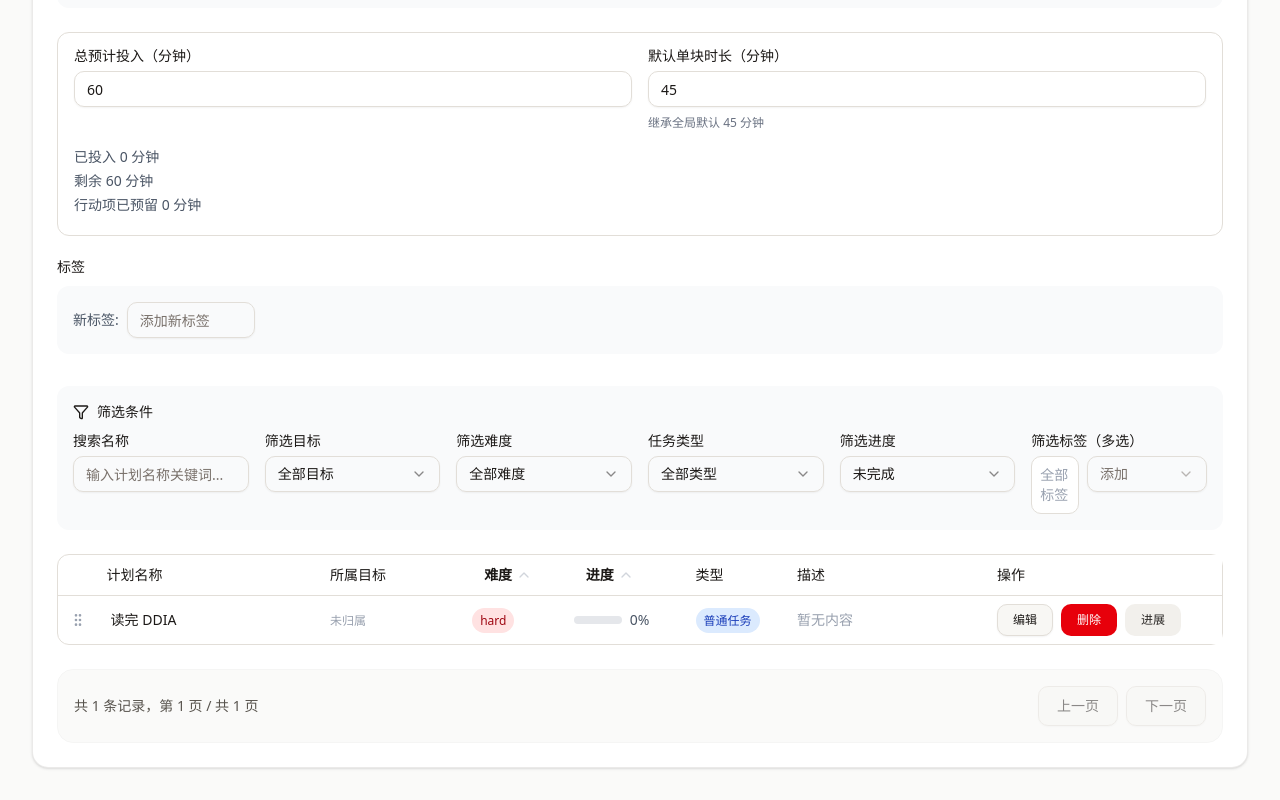
Test case: PlansPage › loads editable budget values and locks recurrence after execution history
(page scrolled)
Click the button "编辑": (1025, 620) top-left (997, 604), bottom-right (1053, 636)
(page scrolled)
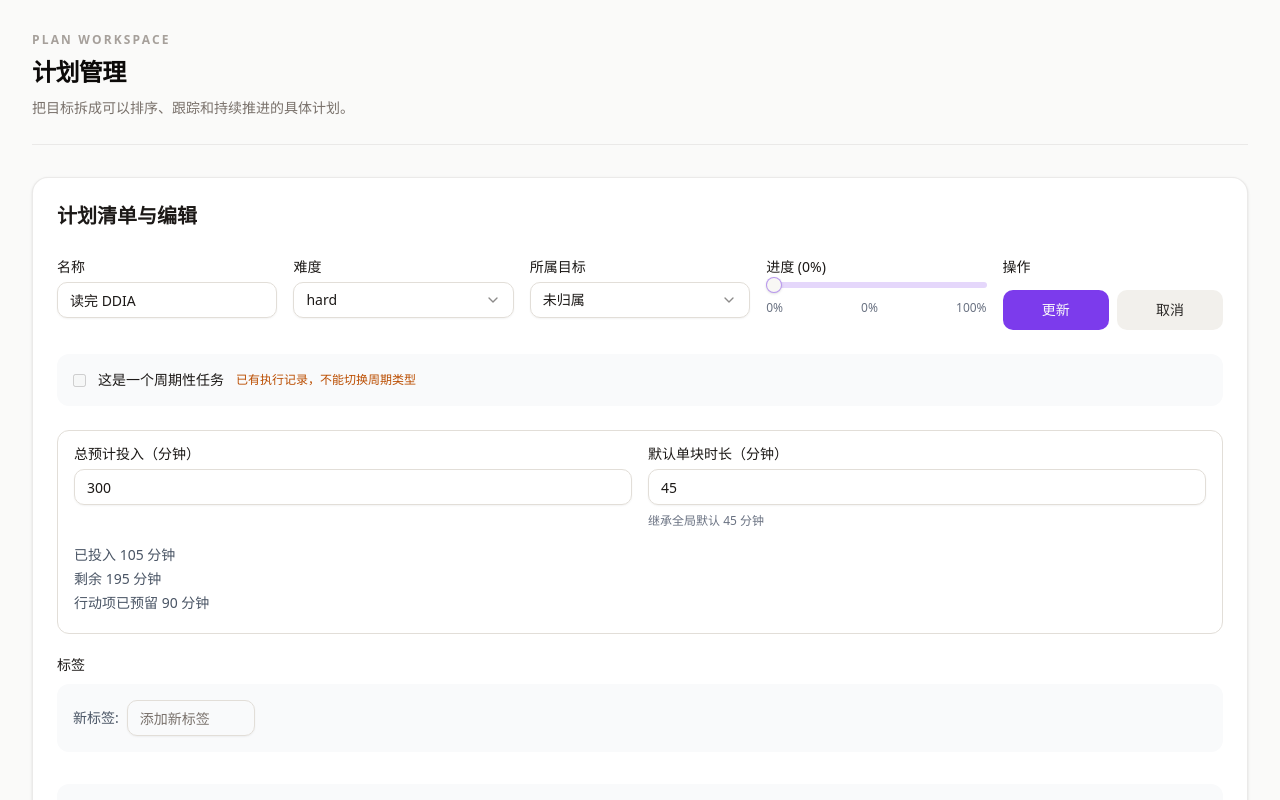
Expected: the number field labelled "总预计投入（分钟）" holds "300", top-left (74, 469), bottom-right (632, 505)
Expected: the text "已投入 105 分钟" is shown, top-left (74, 545), bottom-right (175, 564)
Expected: the text "行动项已预留 90 分钟" is shown, top-left (74, 593), bottom-right (209, 612)
